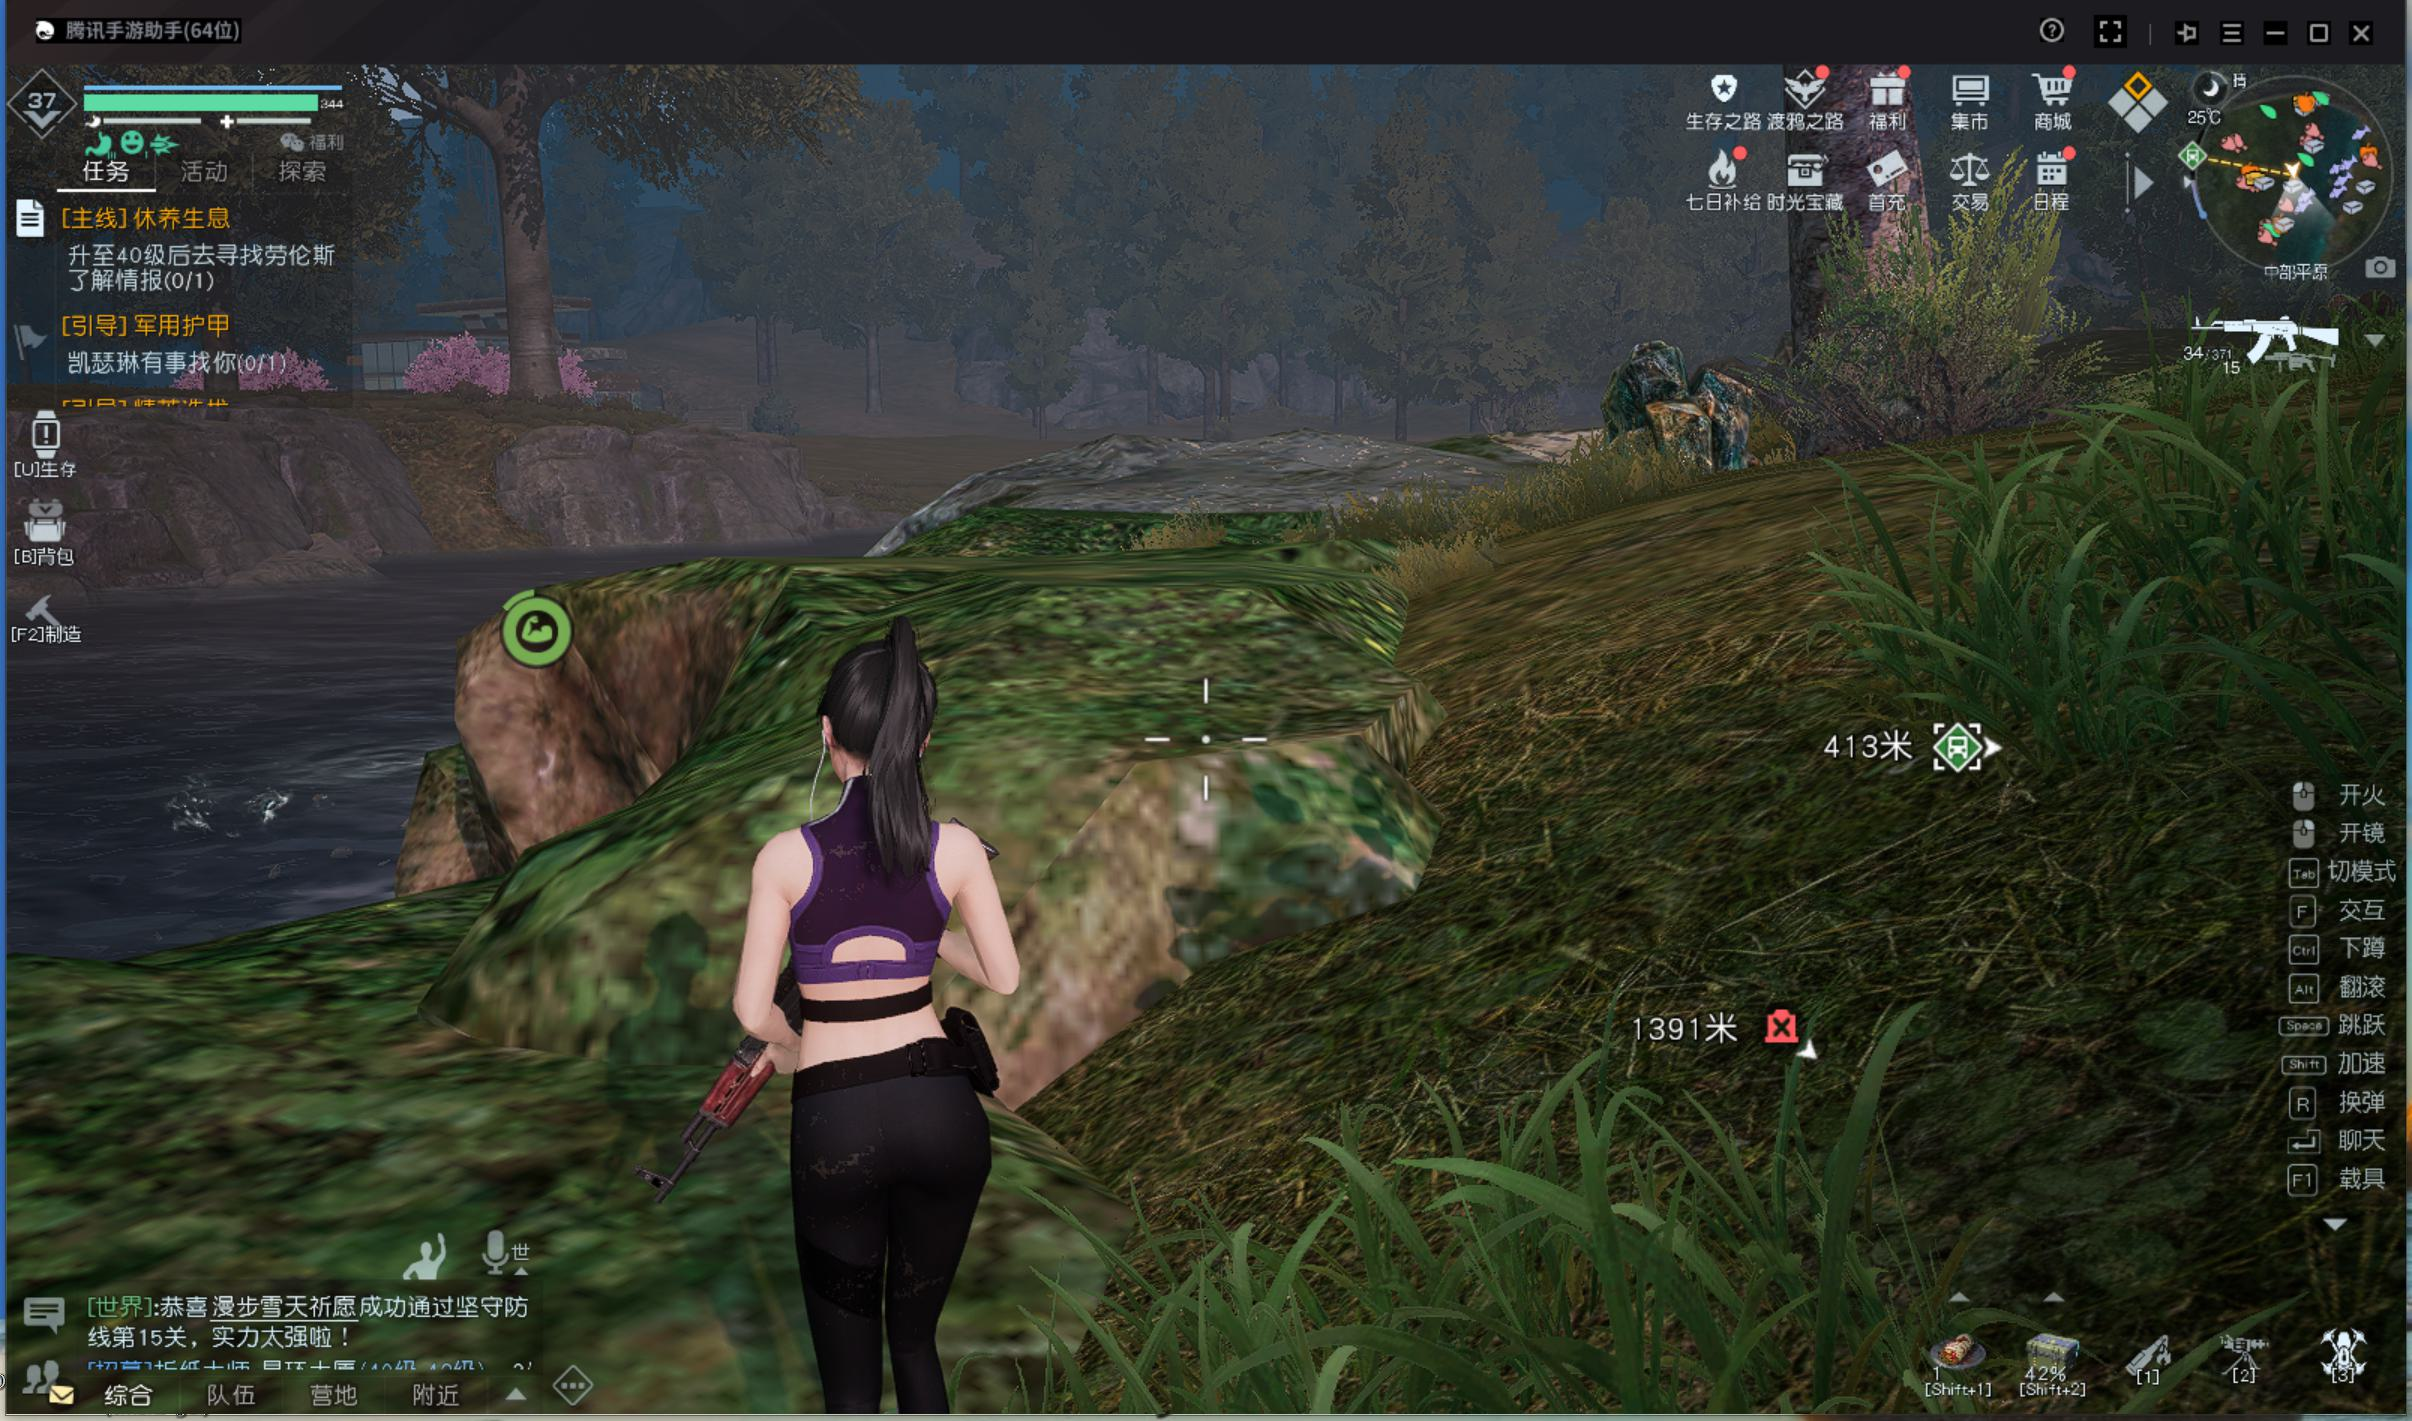stone: (1561, 333, 1756, 492)
tree: (1773, 122, 1977, 477)
